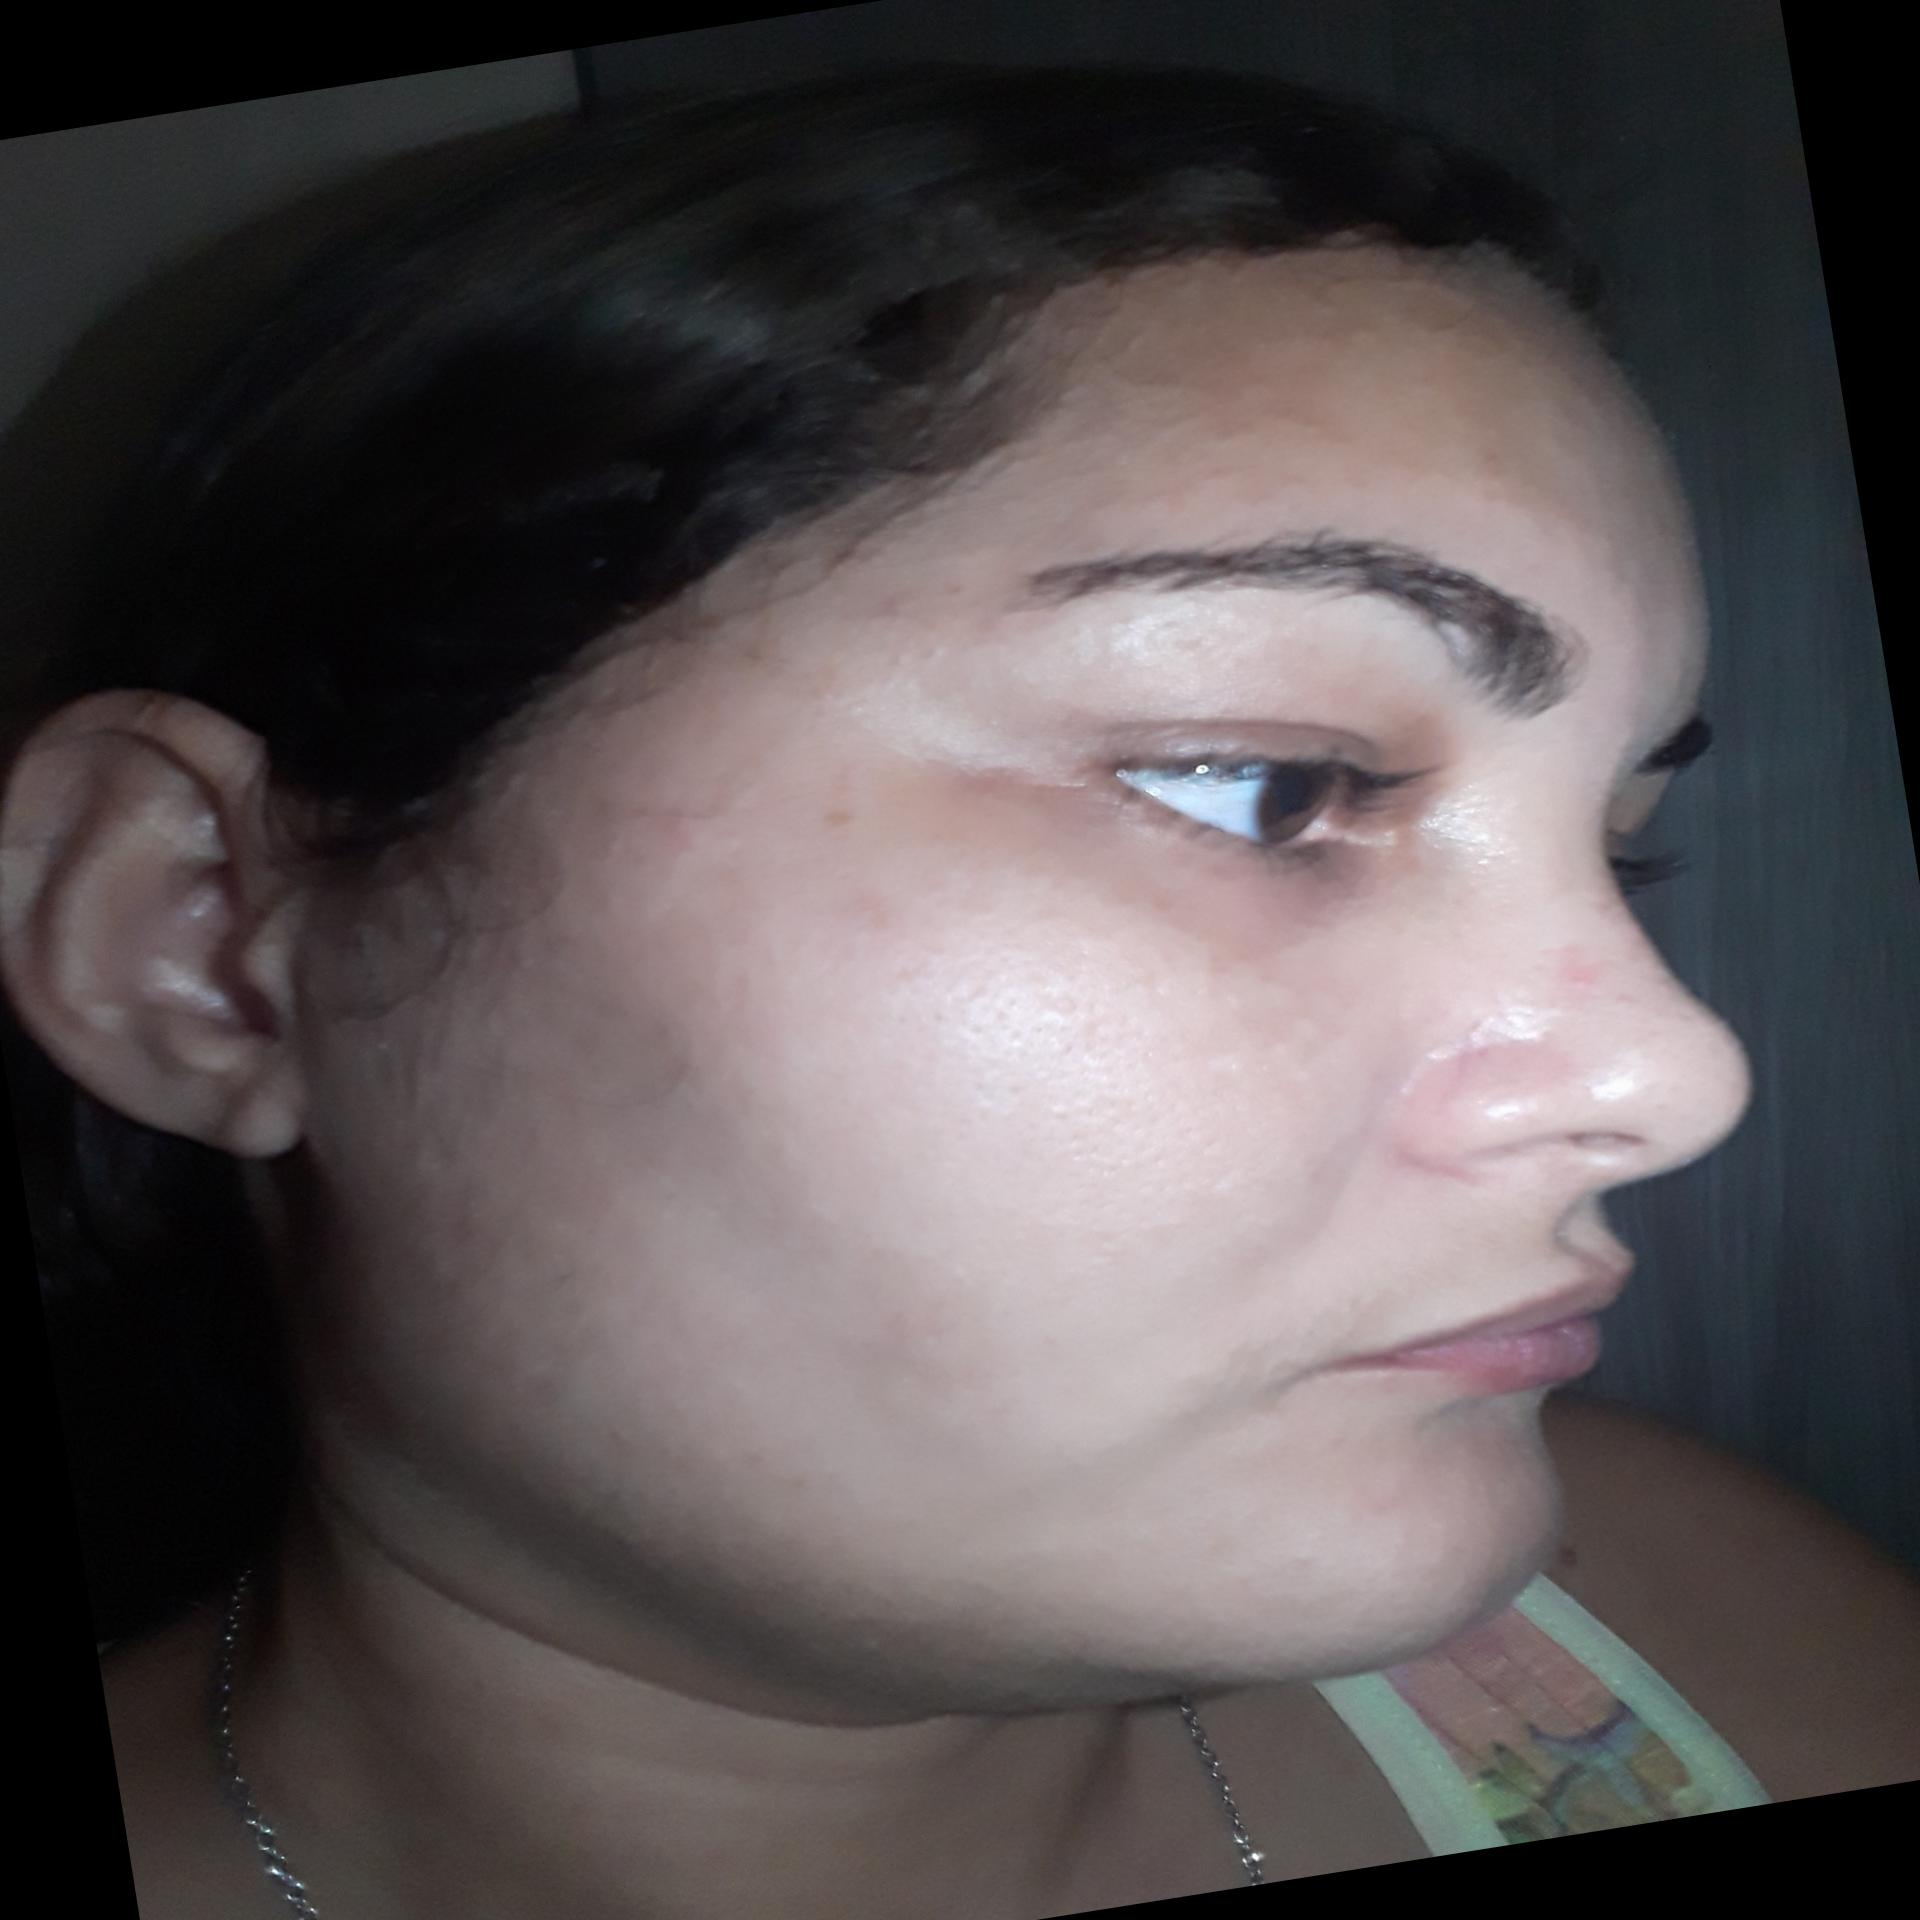Acne: (832, 876, 904, 948), (1558, 935, 1616, 1004), (816, 805, 860, 839)
Wrinkles: (923, 731, 1087, 809)
